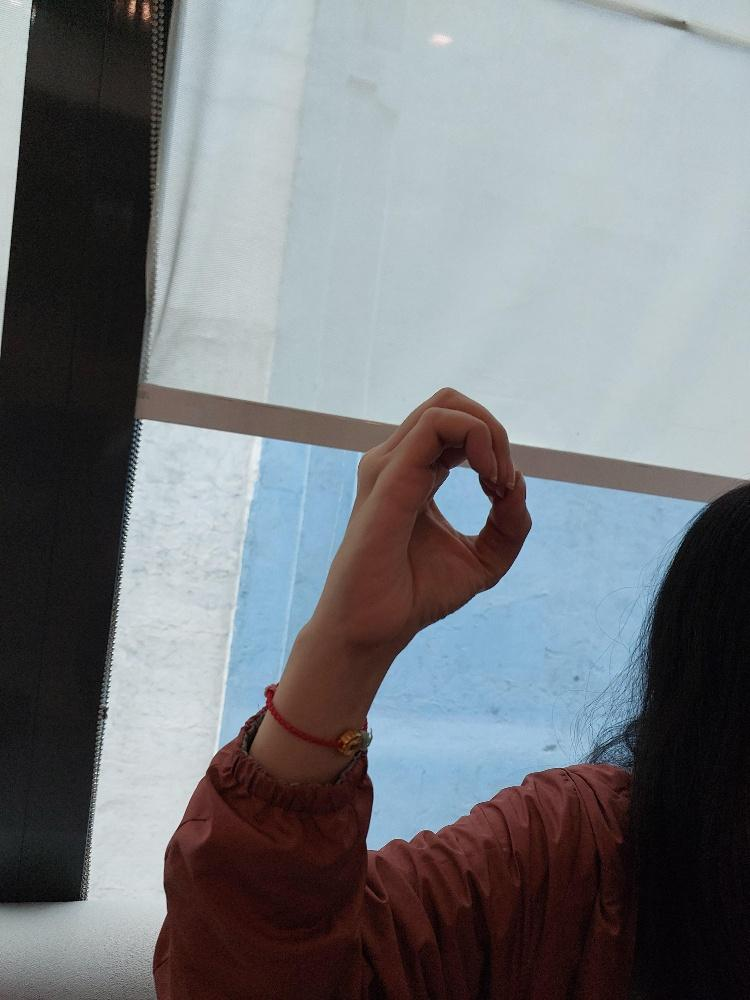o: (311, 381, 534, 659)
